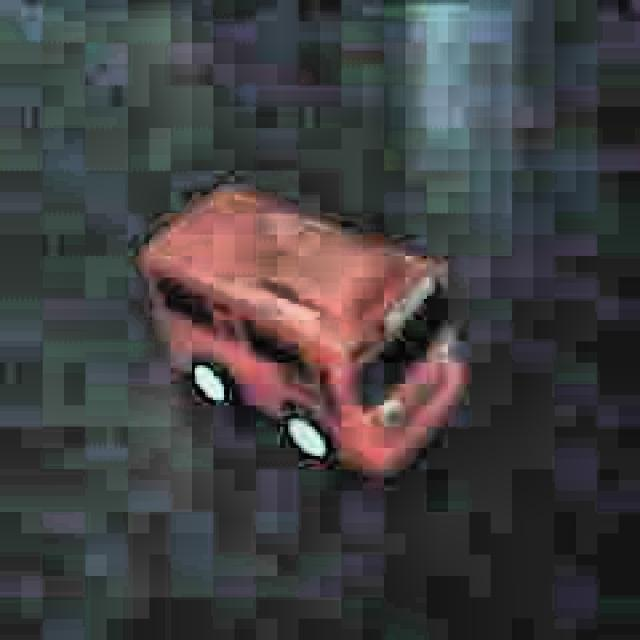bus: (137, 180, 469, 482)
